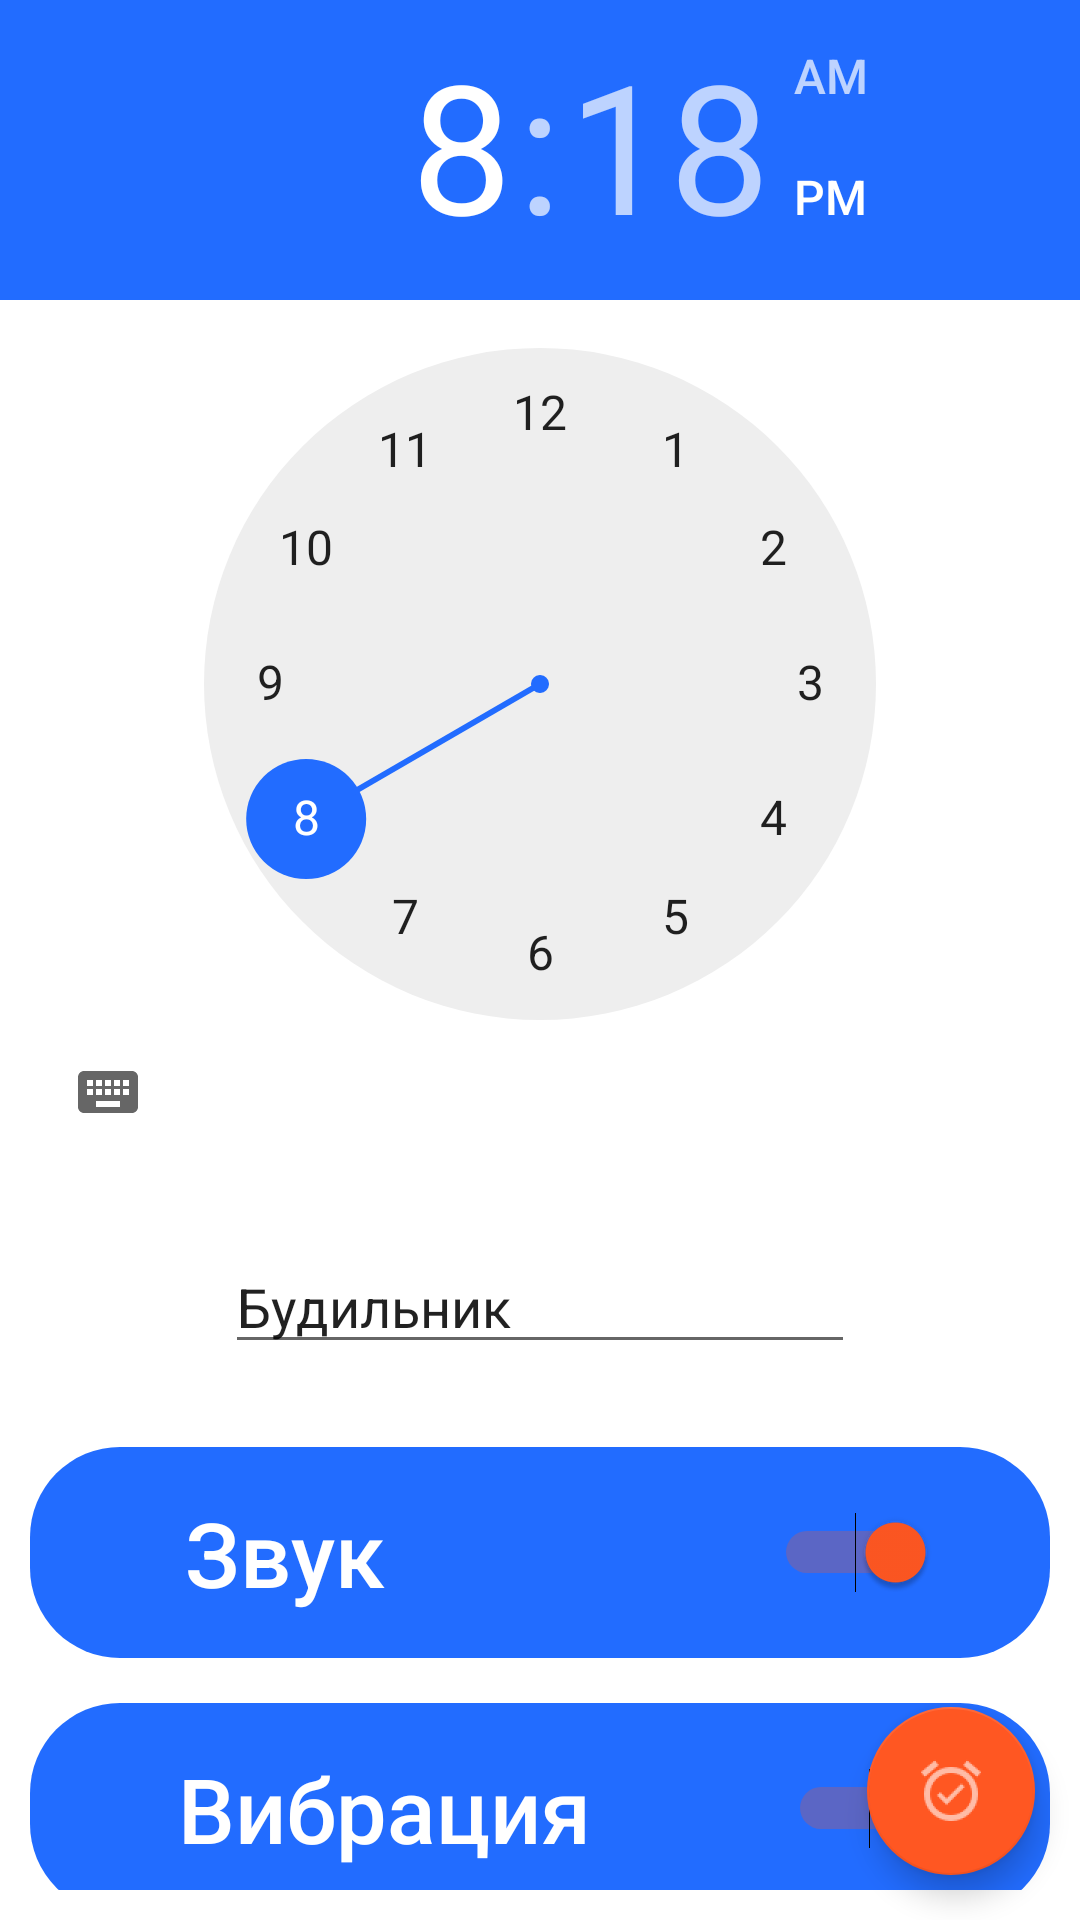

Named icons in this screenshot (1080*1920) and their centers, (x,y):
alarm on: (951,1791)
